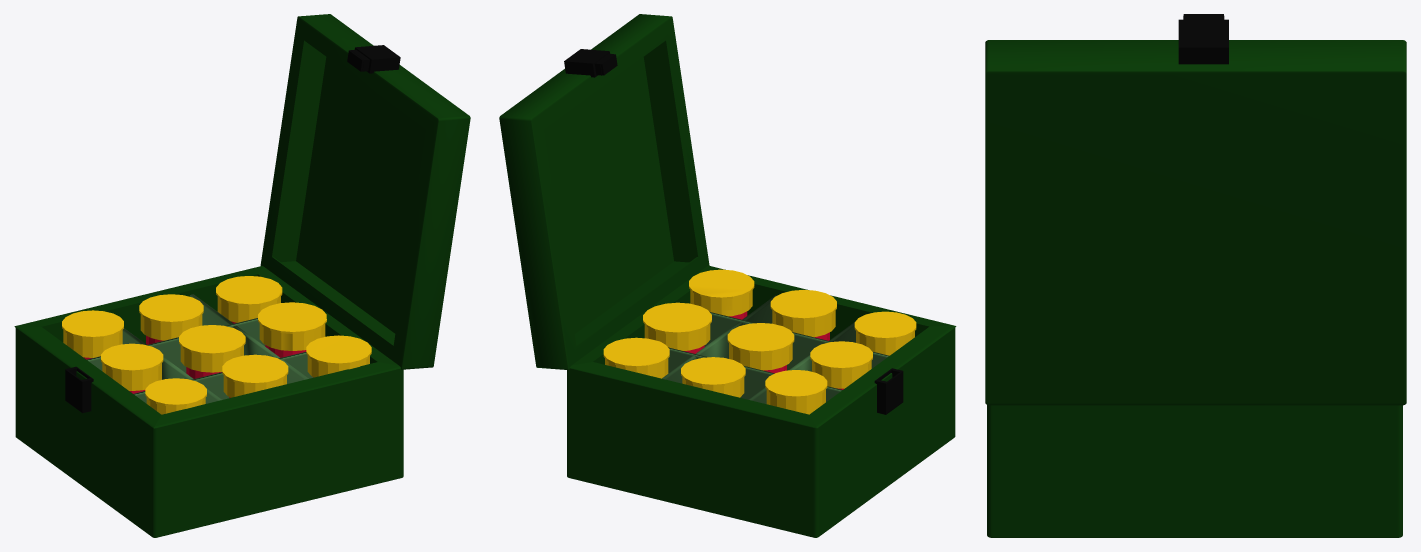
The model's file is Shotgun shell.fbx.
3 views of the same model, side by side, from view 1: azimuth 30°, elevation 25°; view 2: azimuth 150°, elevation 25°; view 3: azimuth 270°, elevation 25° (orthographic). The views are drawn at different scales.
Parts seen in each view (by area): view 1: Cube, Cube.001, Cylinder.001, Cube.002; view 2: Cube, Cube.001, Cylinder.001, Cube.002; view 3: Cube.001, Cube.
Boxes of the visible parts, x1,y1,x2,y2 form: Cube: [14, 266, 403, 537]; Cube.001: [260, 14, 470, 369]; Cylinder.001: [62, 276, 371, 414]; Cube.002: [87, 294, 313, 403]; Cube: [567, 265, 956, 537]; Cube.001: [499, 14, 709, 369]; Cylinder.001: [603, 269, 916, 414]; Cube.002: [662, 295, 889, 403]; Cube.001: [985, 14, 1406, 405]; Cube: [987, 405, 1402, 537].
Size of the model in its own units: 1163 by 1241 by 874.
